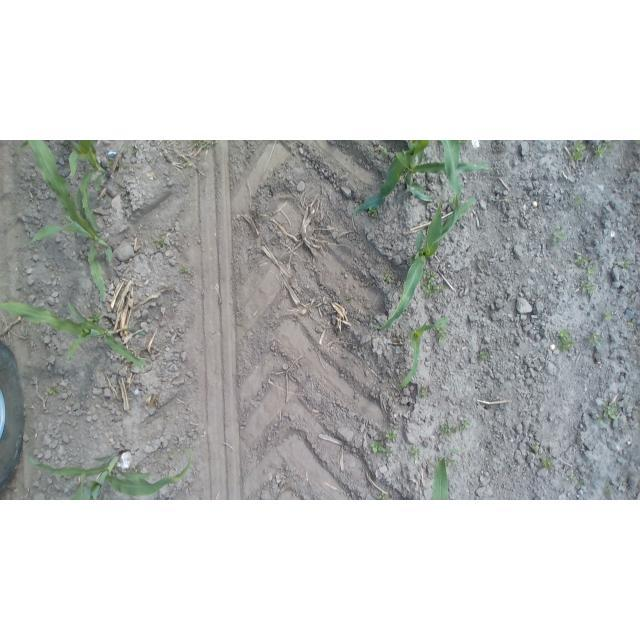Maize: (18, 141, 117, 308), (373, 189, 478, 332), (350, 142, 490, 233), (0, 293, 152, 373), (20, 449, 201, 500), (393, 315, 452, 395), (67, 141, 118, 188), (437, 140, 467, 201), (428, 452, 460, 501)
Weeds: (423, 271, 445, 300), (573, 253, 600, 276), (439, 419, 472, 437), (556, 328, 577, 353), (599, 400, 620, 424), (370, 439, 393, 460), (549, 225, 568, 246), (593, 141, 615, 159), (570, 141, 587, 163), (538, 454, 555, 474), (190, 141, 220, 152), (579, 279, 597, 297), (382, 269, 398, 289), (435, 328, 450, 345), (375, 146, 393, 160), (588, 331, 601, 350), (154, 235, 169, 251), (45, 384, 63, 397), (410, 443, 423, 461), (367, 205, 381, 221), (385, 427, 398, 443), (570, 474, 587, 486), (417, 387, 434, 399), (572, 194, 585, 208), (446, 444, 465, 453), (365, 308, 378, 321), (602, 309, 614, 323), (178, 266, 192, 278), (621, 258, 633, 272), (374, 491, 392, 500), (478, 348, 491, 360), (181, 160, 195, 171), (130, 144, 141, 158), (445, 458, 460, 468), (530, 442, 542, 454), (626, 318, 636, 329), (604, 486, 615, 496), (121, 161, 131, 171), (632, 404, 639, 418), (180, 448, 187, 457)
